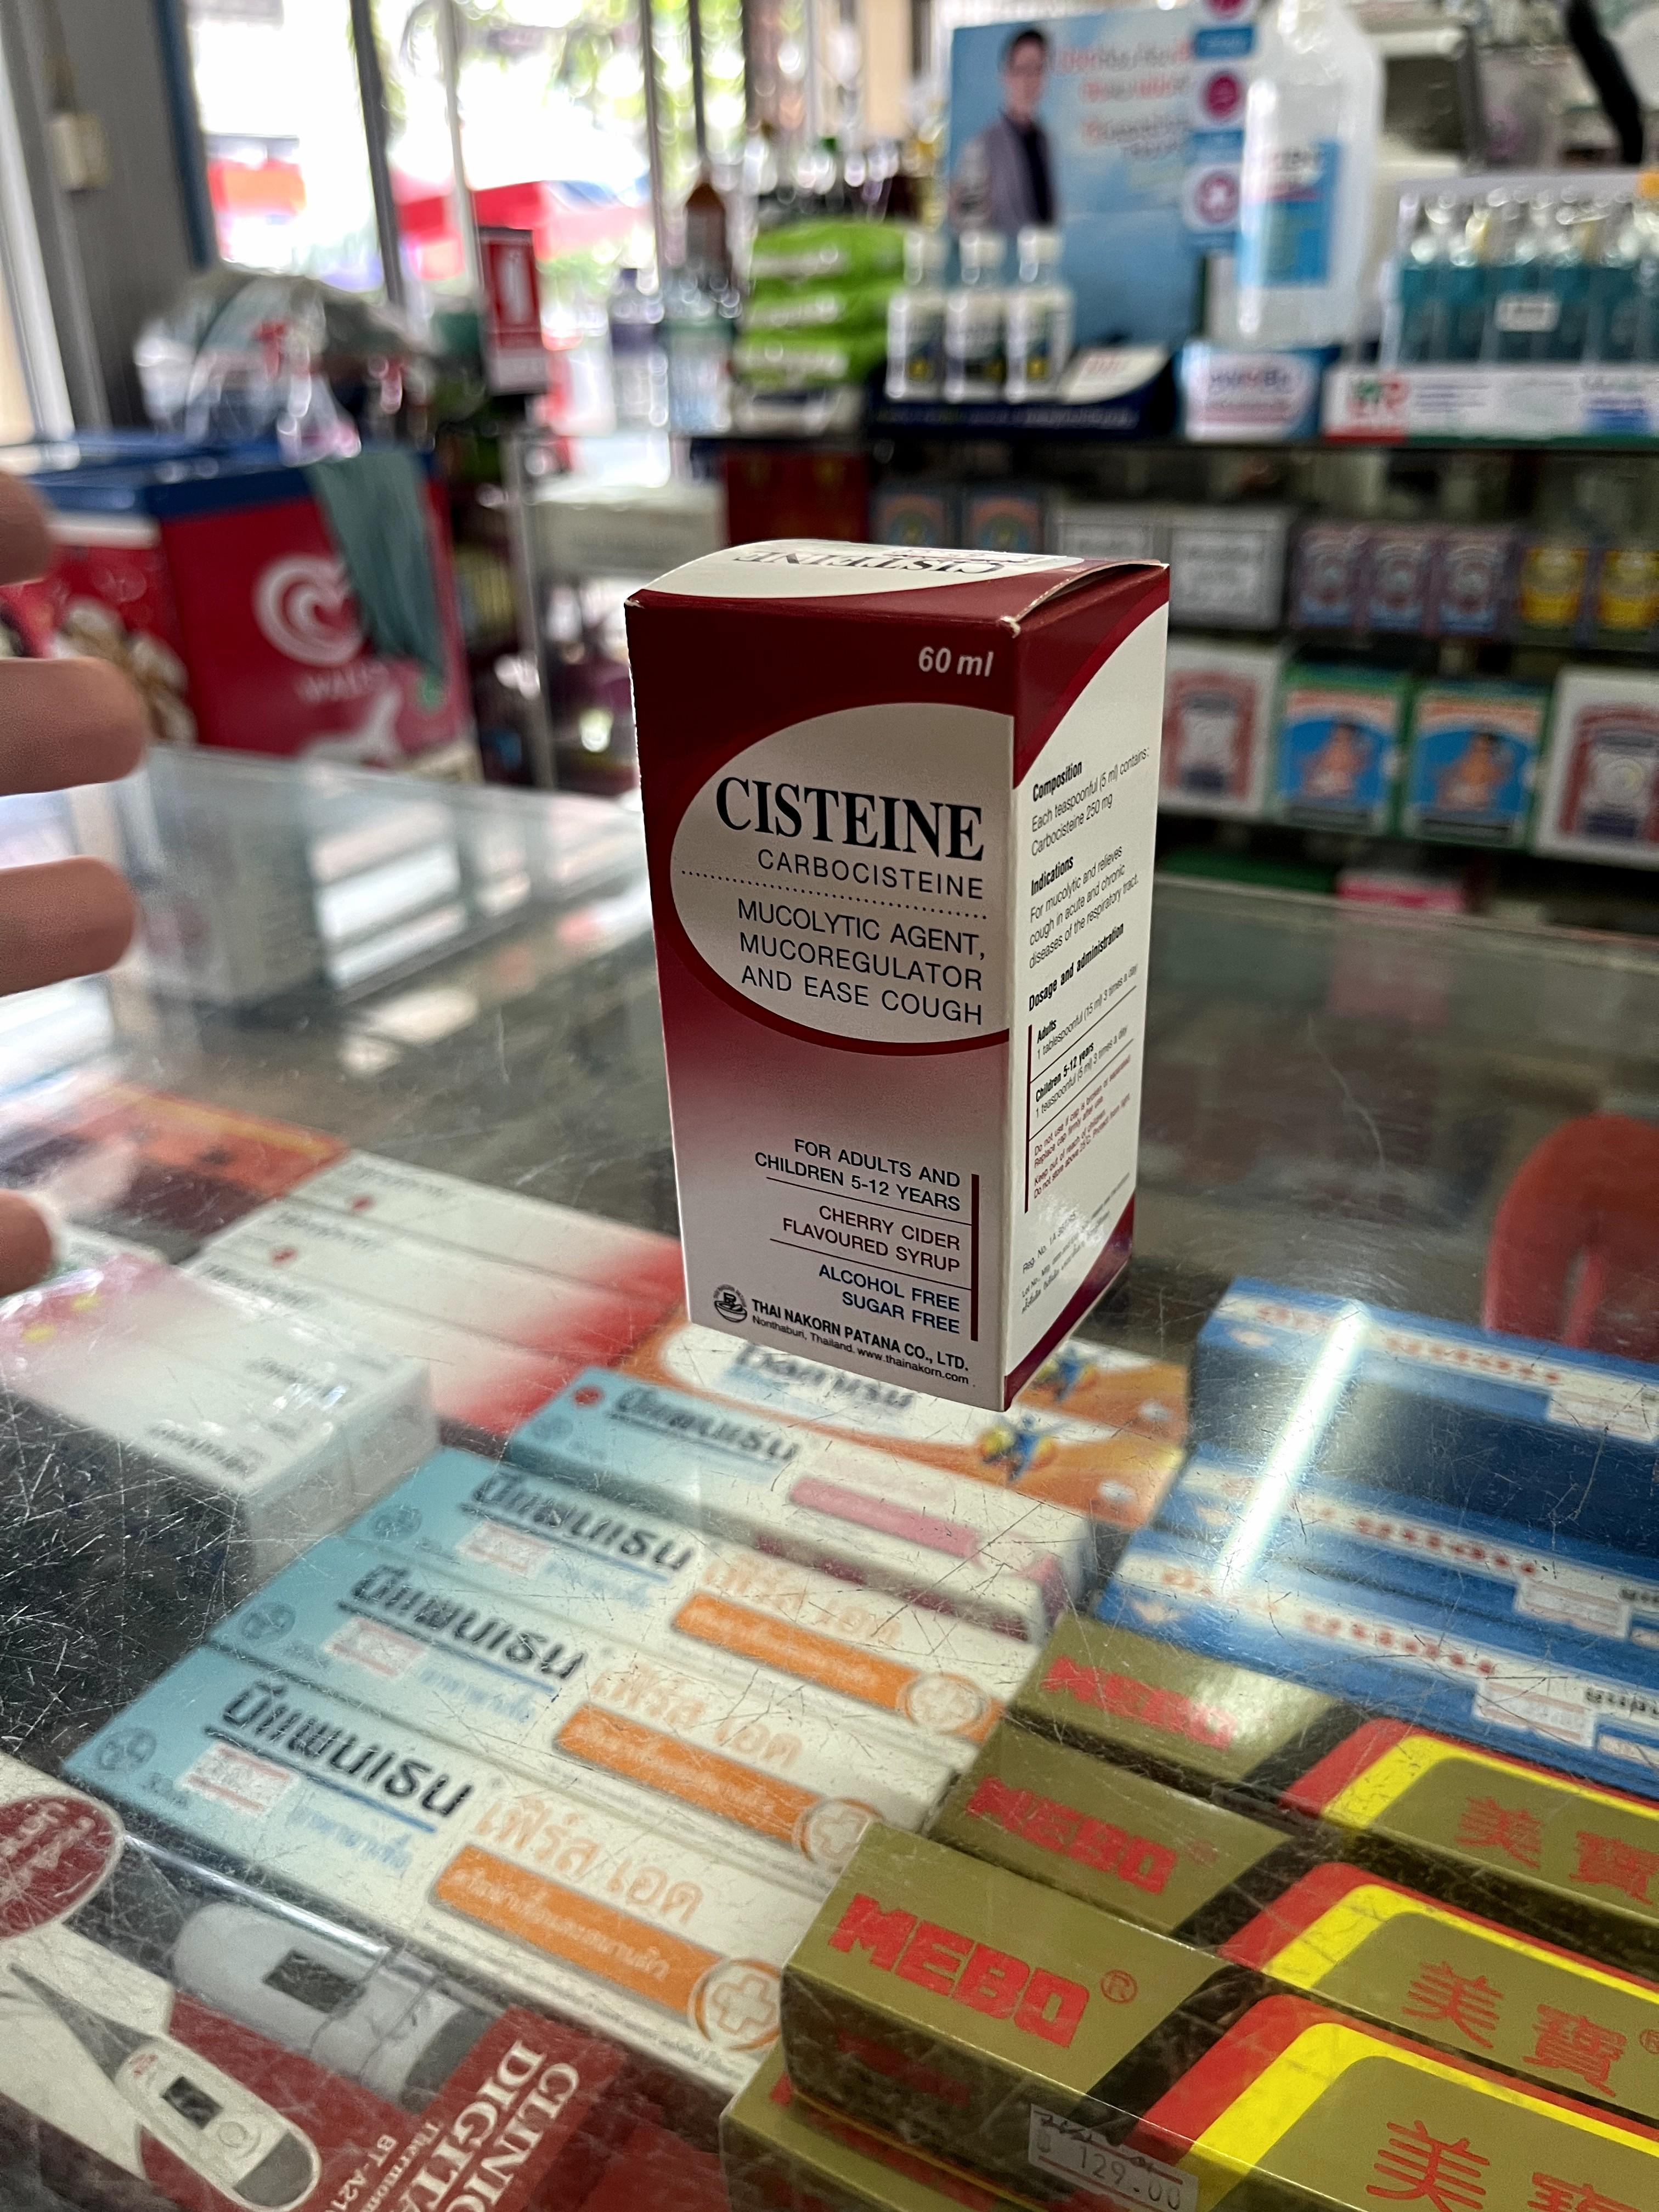Cisteine: (636, 538, 1162, 1407)
